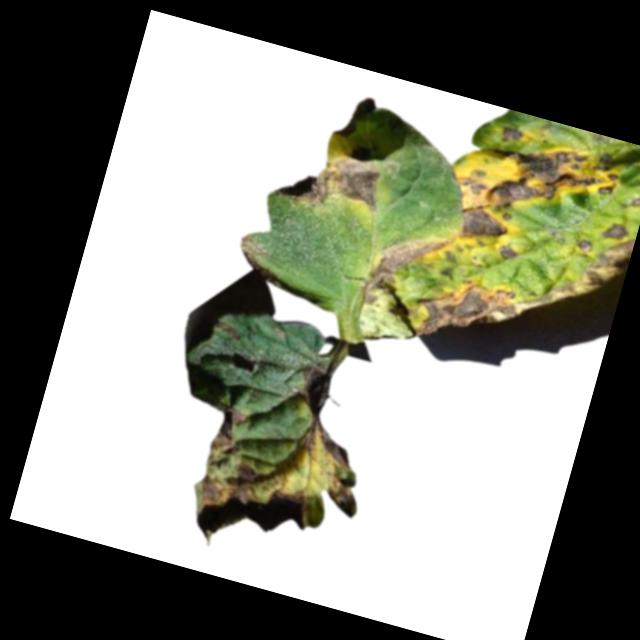Early_blight: (405, 122, 640, 396), (181, 338, 394, 580), (274, 133, 390, 217), (361, 221, 448, 309), (235, 234, 272, 270), (500, 121, 527, 146), (216, 318, 245, 339)
